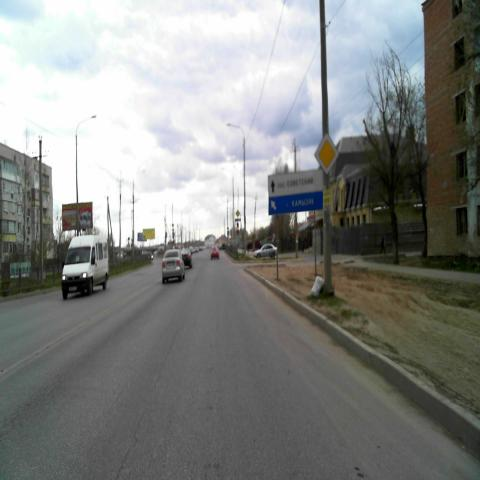2_1: (315, 133, 339, 175), (236, 209, 240, 217)
